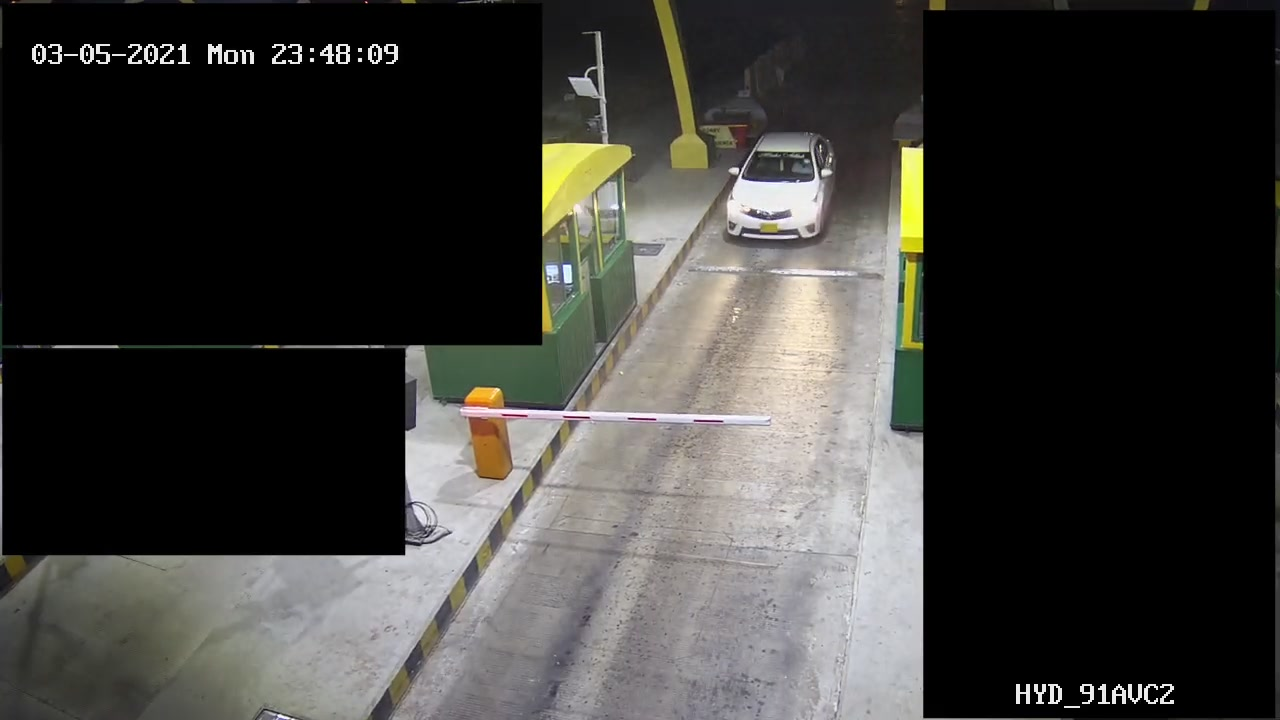F1: (714, 123, 846, 255)
